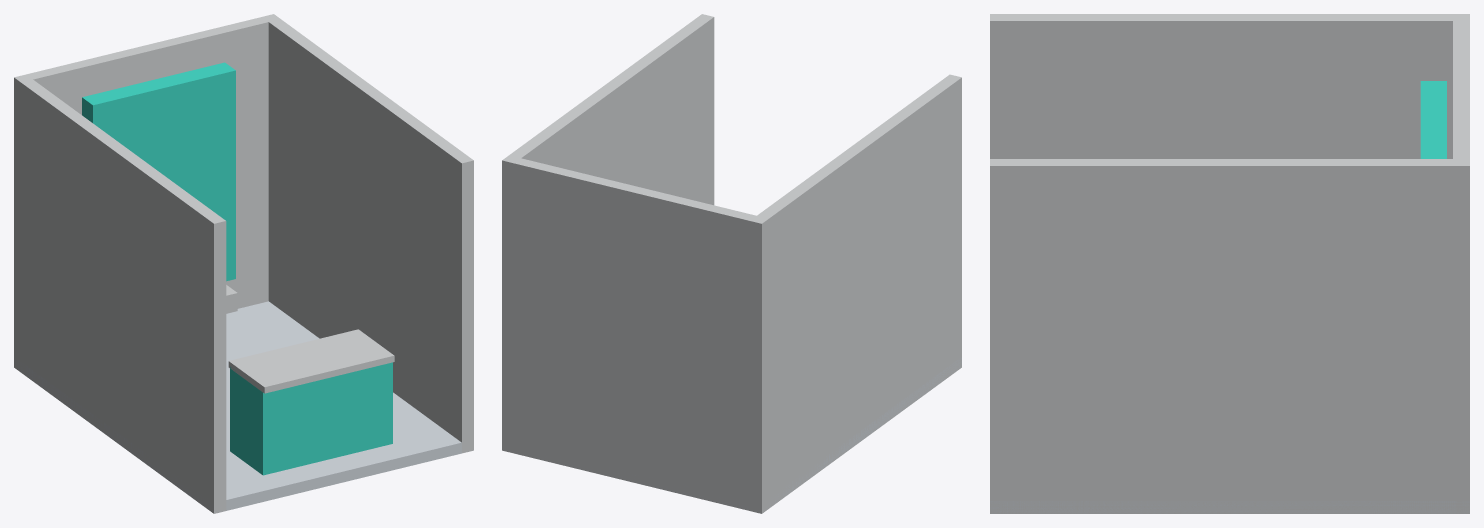
3 views of the same model, side by side, from view 1: azimuth 30°, elevation 25°; view 2: azimuth 150°, elevation 25°; view 3: azimuth 270°, elevation 25° (orthographic). The views are drawn at different scales.
Parts seen in each view (by area): view 1: Exhibition Booth Concept; view 2: Exhibition Booth Concept; view 3: Exhibition Booth Concept.
Part boxes in pixels (x1,y1,x2,y2): Exhibition Booth Concept: (14,14,473,513); Exhibition Booth Concept: (502,14,961,513); Exhibition Booth Concept: (990,14,1469,513).
Size of the model in its own units: 3 by 3.2 by 4.
